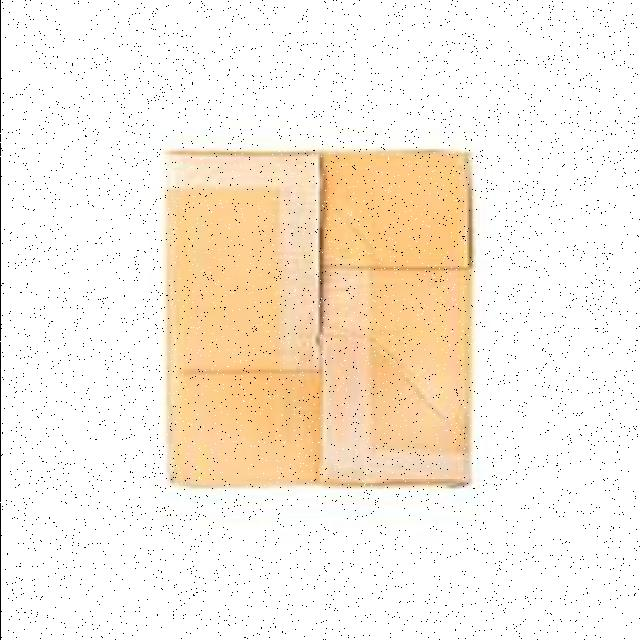normal: (153, 144, 484, 490)
